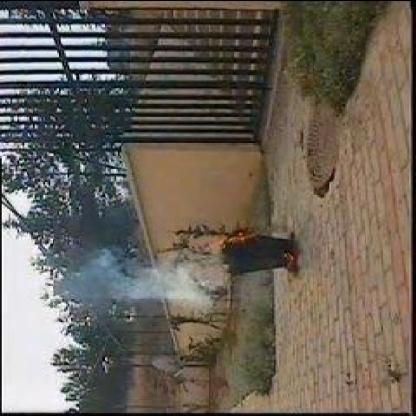-: (67, 256, 195, 304)
foggia-v2-map80-epoch100 - v1 4323: (187, 223, 257, 257)
